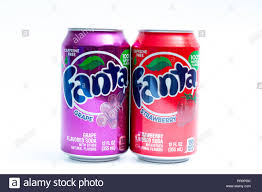fanta_can: (61, 27, 130, 161)
